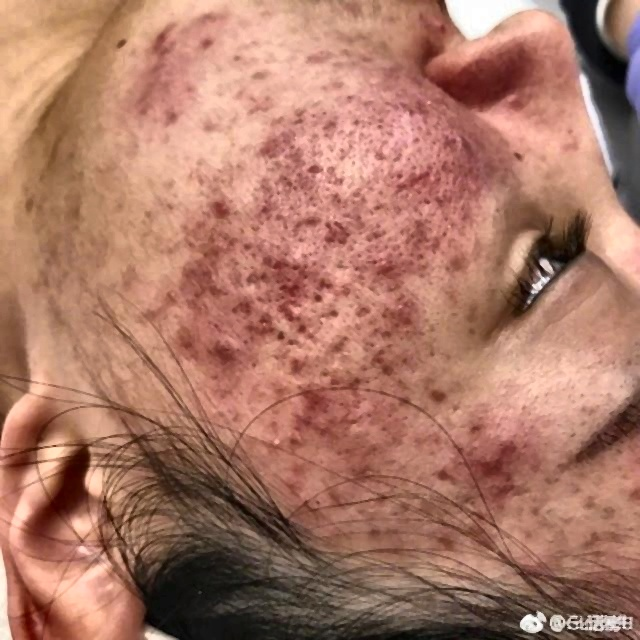nodule: (155, 267, 215, 324), (269, 243, 318, 312), (272, 452, 327, 506), (374, 160, 446, 200), (282, 162, 336, 212), (384, 87, 442, 130), (141, 15, 200, 56), (406, 451, 462, 494), (369, 293, 421, 336), (149, 82, 197, 124), (224, 279, 267, 320), (396, 208, 432, 255), (282, 381, 324, 419), (205, 186, 243, 228), (242, 306, 283, 344), (328, 216, 363, 259), (276, 344, 316, 381), (264, 421, 307, 455), (473, 451, 510, 490), (279, 206, 321, 240), (255, 133, 293, 168), (358, 338, 397, 372), (199, 334, 232, 374), (190, 234, 230, 267), (321, 328, 358, 362), (362, 256, 413, 279), (488, 430, 524, 461), (253, 174, 274, 224), (341, 371, 368, 409), (459, 170, 491, 201), (360, 219, 391, 248), (244, 94, 286, 115), (289, 317, 319, 346), (171, 323, 201, 352), (428, 525, 458, 553), (300, 46, 335, 70), (337, 409, 367, 437), (314, 110, 340, 142), (460, 414, 493, 438), (428, 12, 457, 39), (368, 137, 395, 166), (403, 114, 435, 138), (194, 8, 234, 27), (552, 134, 585, 157), (312, 268, 343, 292), (445, 250, 475, 274), (286, 99, 310, 129), (195, 31, 221, 58), (344, 461, 379, 481), (346, 295, 375, 319), (237, 236, 269, 257), (196, 112, 225, 135), (499, 88, 527, 111), (343, 182, 368, 206), (450, 131, 478, 152), (317, 302, 345, 323), (424, 385, 452, 404), (434, 132, 457, 152), (370, 490, 393, 509)
